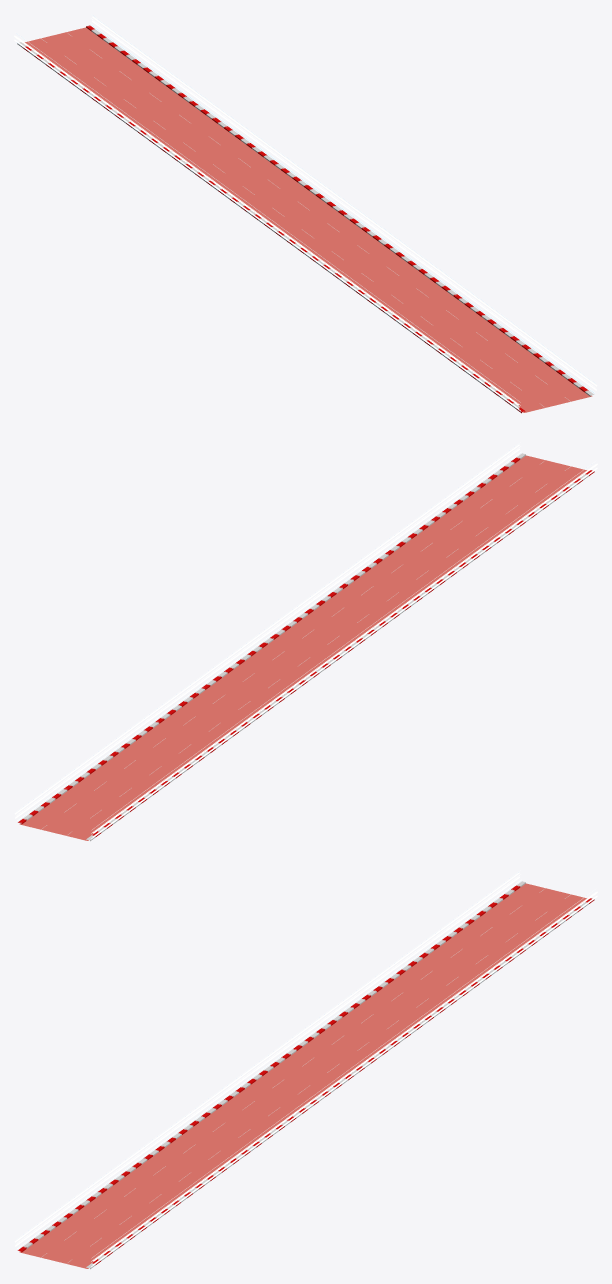
Rendered from Road_.glb.
3 views of the same model, one above another, from view 1: azimuth 30°, elevation 25°; view 2: azimuth 150°, elevation 25°; view 3: azimuth 330°, elevation 25° (orthographic).
Visible parts, largest first — view 1: Asphalt_, Divider_Left_, Guard_Rail_5, Divider_Rigth_, Guard_Rail_2, Guard_Rail_6, Guard_Rail_3, Guard_Rail_1, Guard_Rail_.4; view 2: Asphalt_, Divider_Left_, Guard_Rail_5, Divider_Rigth_, Guard_Rail_2, Guard_Rail_6, Guard_Rail_3, Guard_Rail_1, Guard_Rail_.4; view 3: Asphalt_, Divider_Rigth_, Guard_Rail_5, Divider_Left_, Guard_Rail_2, Guard_Rail_6, Guard_Rail_3, Guard_Rail_1, Guard_Rail_.4.
Boxes of the visible parts, bbox=[...] form: Asphalt_: bbox=[25, 27, 592, 412]; Divider_Left_: bbox=[86, 25, 594, 396]; Guard_Rail_5: bbox=[14, 20, 596, 409]; Divider_Rigth_: bbox=[17, 42, 525, 413]; Guard_Rail_2: bbox=[14, 16, 597, 405]; Guard_Rail_6: bbox=[18, 23, 594, 411]; Guard_Rail_3: bbox=[16, 18, 595, 405]; Guard_Rail_1: bbox=[16, 14, 595, 402]; Guard_Rail_.4: bbox=[15, 19, 595, 406]; Asphalt_: bbox=[19, 455, 586, 840]; Divider_Left_: bbox=[17, 453, 525, 824]; Guard_Rail_5: bbox=[15, 448, 597, 837]; Divider_Rigth_: bbox=[86, 470, 594, 841]; Guard_Rail_2: bbox=[14, 444, 597, 833]; Guard_Rail_6: bbox=[17, 451, 593, 839]; Guard_Rail_3: bbox=[16, 446, 595, 833]; Guard_Rail_1: bbox=[16, 442, 595, 830]; Guard_Rail_.4: bbox=[16, 447, 596, 834]; Asphalt_: bbox=[19, 883, 586, 1268]; Divider_Rigth_: bbox=[17, 881, 525, 1252]; Guard_Rail_5: bbox=[15, 876, 597, 1265]; Divider_Left_: bbox=[86, 898, 594, 1269]; Guard_Rail_2: bbox=[14, 872, 597, 1261]; Guard_Rail_6: bbox=[17, 879, 595, 1267]; Guard_Rail_3: bbox=[16, 874, 595, 1261]; Guard_Rail_1: bbox=[16, 870, 595, 1258]; Guard_Rail_.4: bbox=[16, 875, 596, 1262].
Size of the model in its own units: 10895 by 1549 by 120250.
7 materials, 2 textured.
